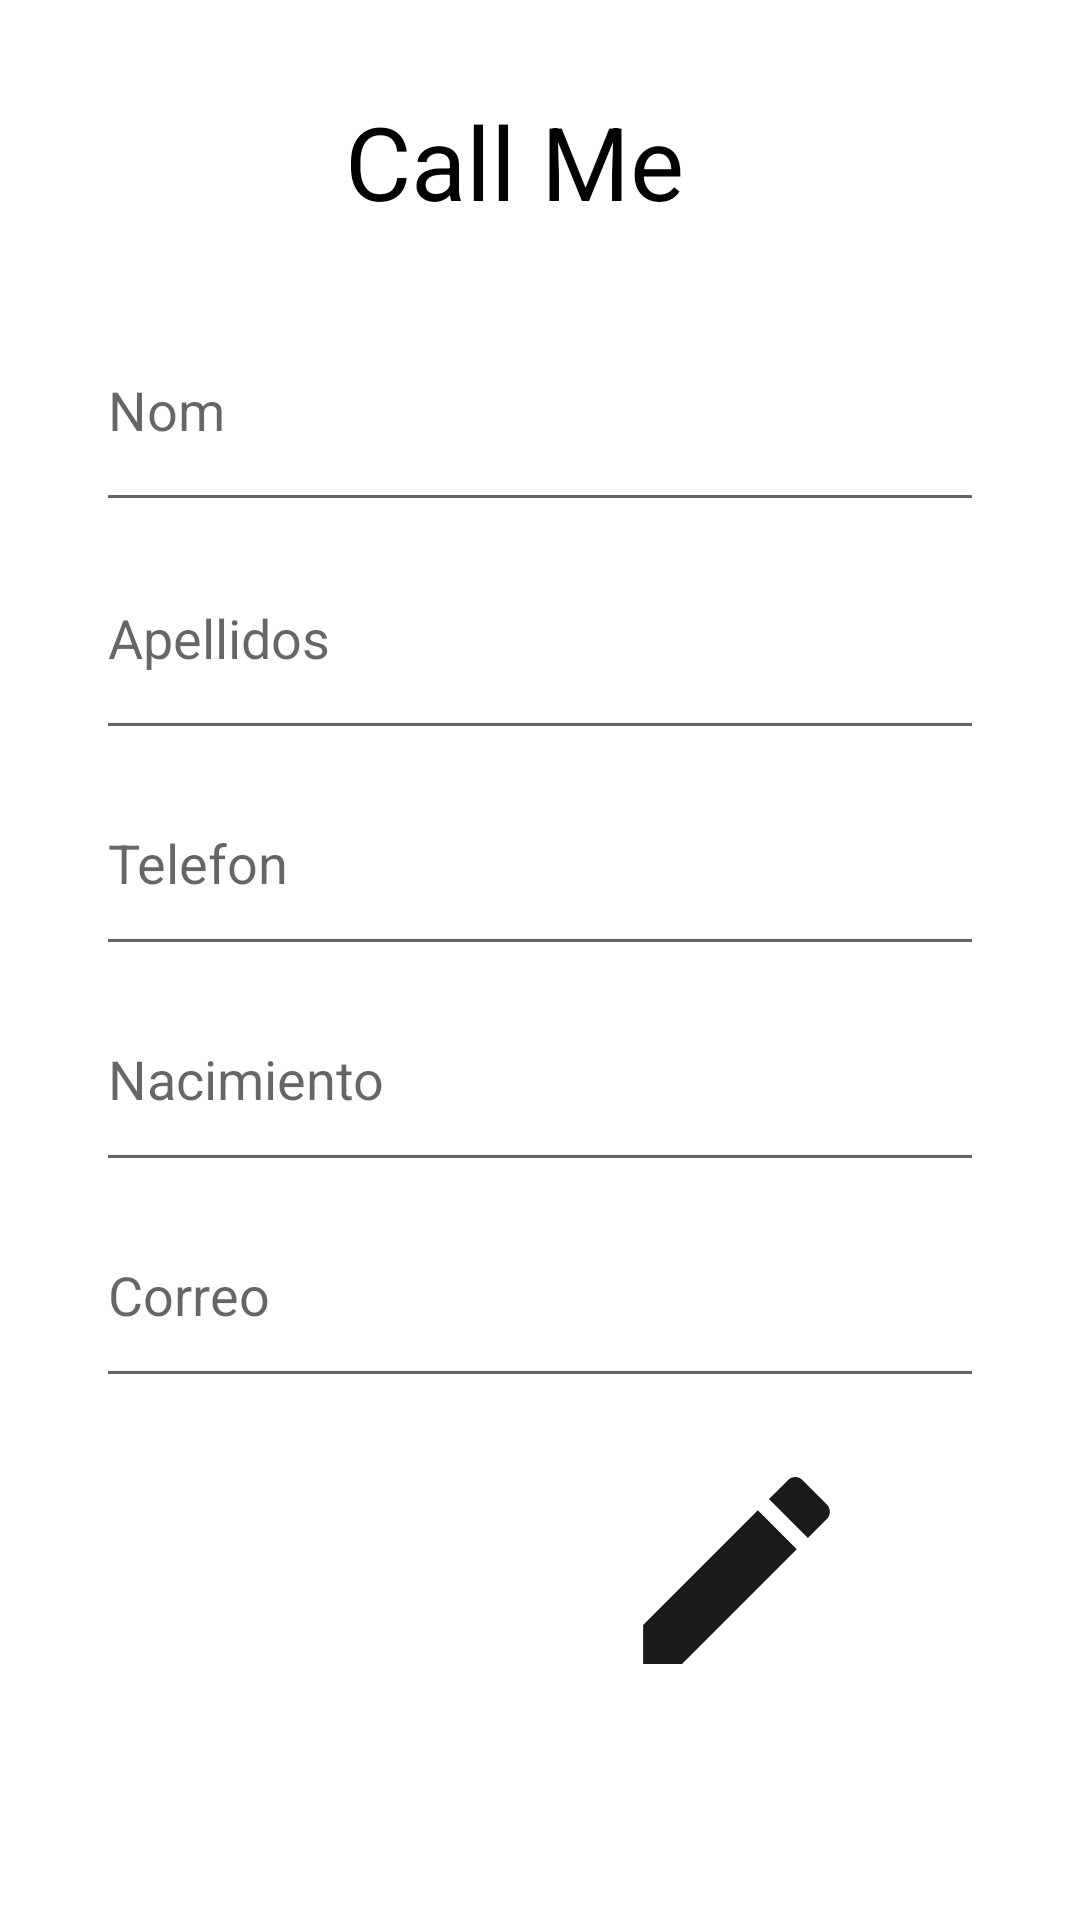

Icon click points for this 1080×1920 phone screenshot, format [x,y]:
editbutton: [736,1570]
